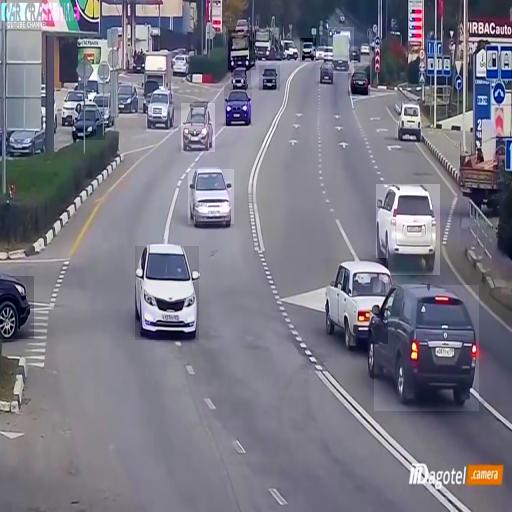小汽车: (374, 286, 479, 412), (136, 246, 200, 340), (376, 184, 440, 275), (325, 258, 388, 344), (188, 169, 234, 224), (0, 276, 34, 339), (181, 103, 215, 152), (71, 100, 105, 140), (146, 83, 173, 132), (328, 27, 354, 73), (224, 84, 252, 126), (228, 30, 256, 70), (396, 101, 422, 139), (116, 82, 138, 118), (348, 66, 370, 96), (259, 65, 280, 91), (232, 63, 252, 89), (316, 61, 336, 86), (300, 38, 316, 62)
